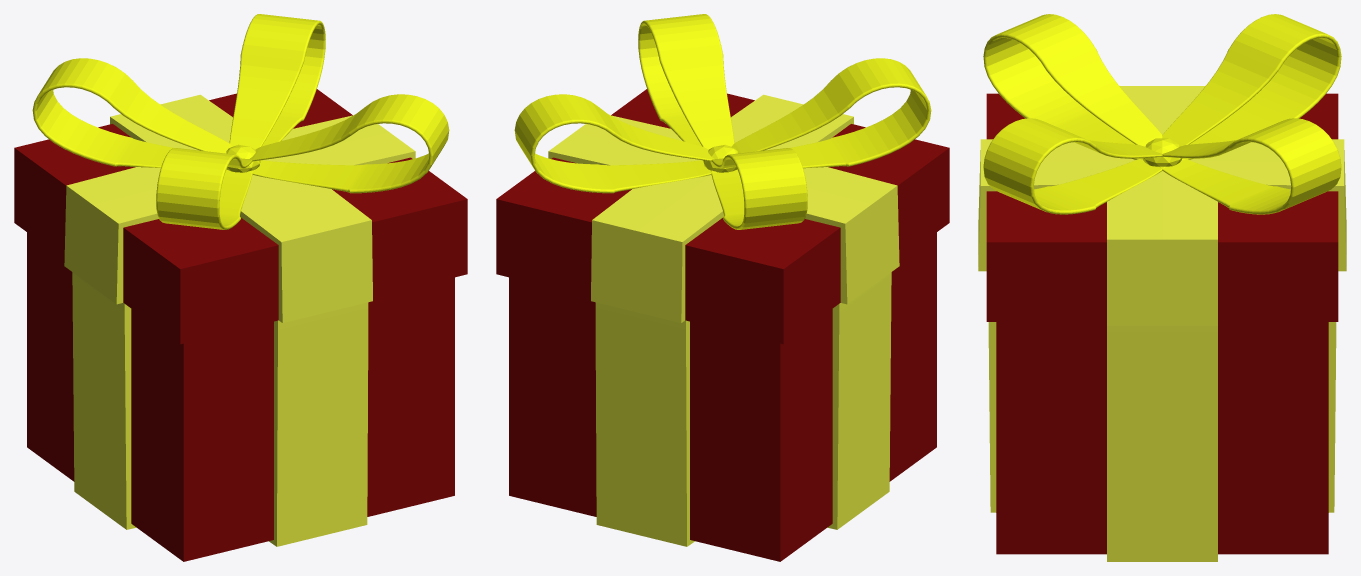
File: Gift.glb
3 renders of one model, left to right at view 1: azimuth 30°, elevation 25°; view 2: azimuth 150°, elevation 25°; view 3: azimuth 270°, elevation 25°, orthographic. The views are drawn at different scales.
Parts seen in each view (by area): view 1: Gift_lid, Gift; view 2: Gift_lid, Gift; view 3: Gift_lid, Gift.
Boxes of the visible parts, left/top/right/bottom form: Gift_lid: left=14, top=14, right=467, bottom=344; Gift: left=27, top=232, right=454, bottom=561; Gift_lid: left=496, top=14, right=949, bottom=344; Gift: left=509, top=232, right=936, bottom=561; Gift_lid: left=978, top=14, right=1346, bottom=325; Gift: left=988, top=322, right=1336, bottom=561.
Size of the model in its own units: 0.3548 by 0.4387 by 0.3548.
Materials: 1 (1 with a texture image).
